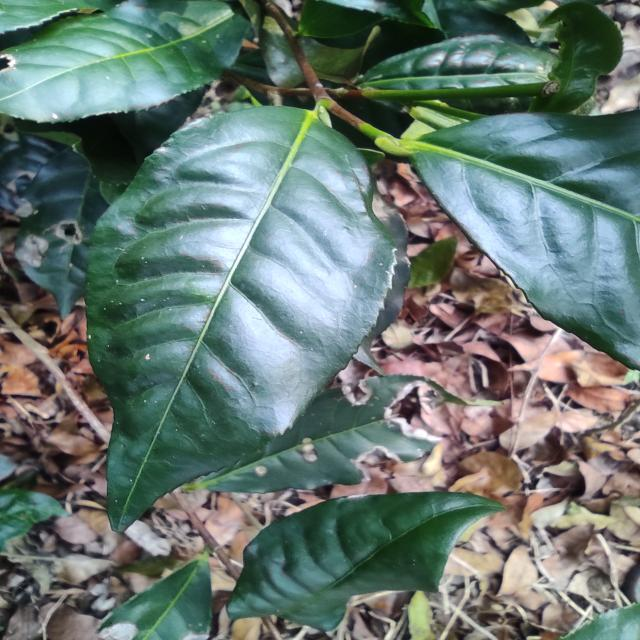Category D(7+ days, Not for Tea): (54, 97, 408, 540)
